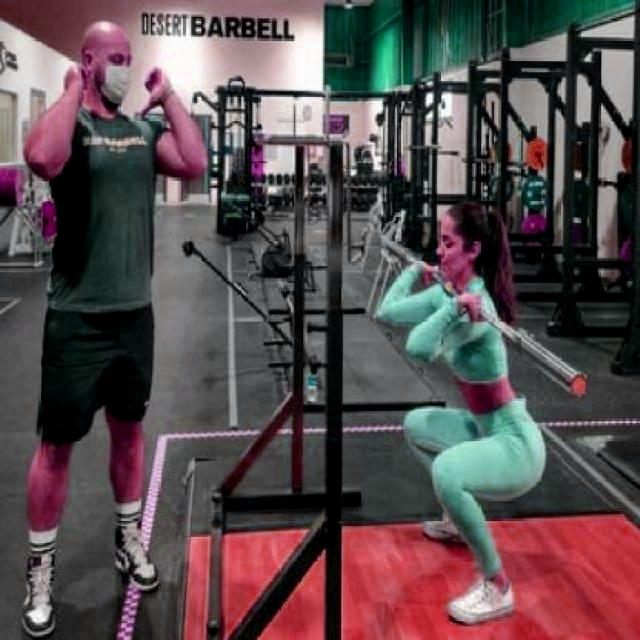barbell: (507, 312, 597, 414)
